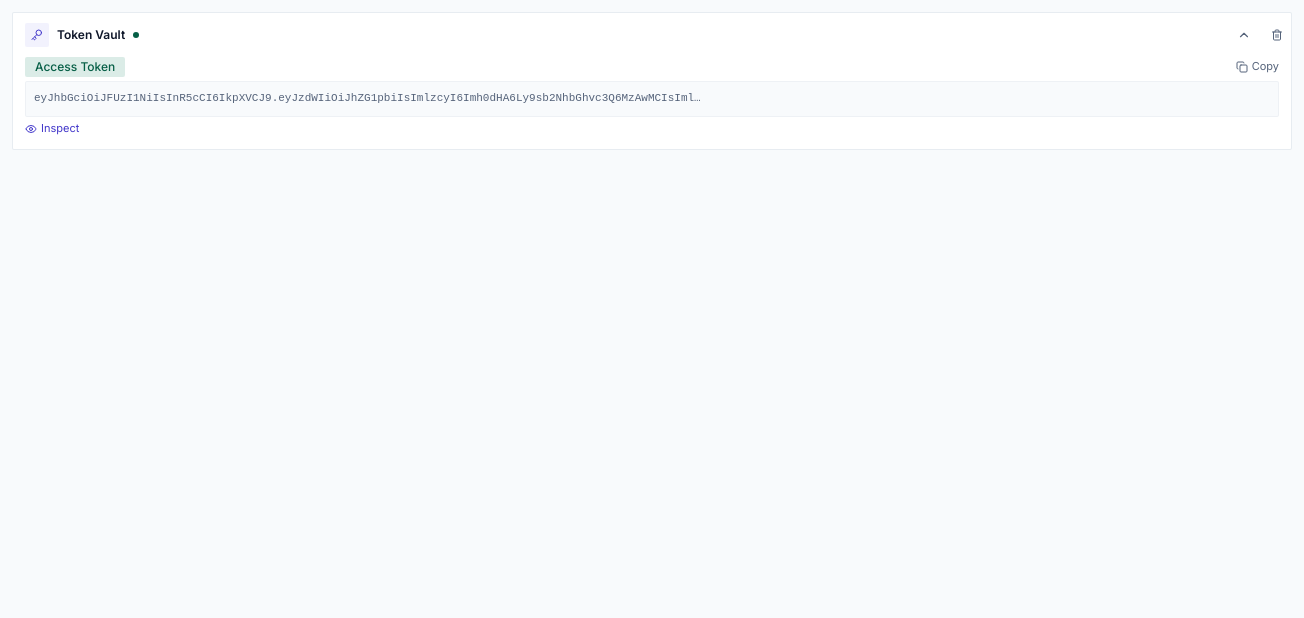
Test: TokenVault — which tokens it shows, and which it lets you inspect › toggles the inspector open and closed on the same button
Step 1. Click the button "Inspect" → coordinates (52, 129), box 25,121 -> 79,137
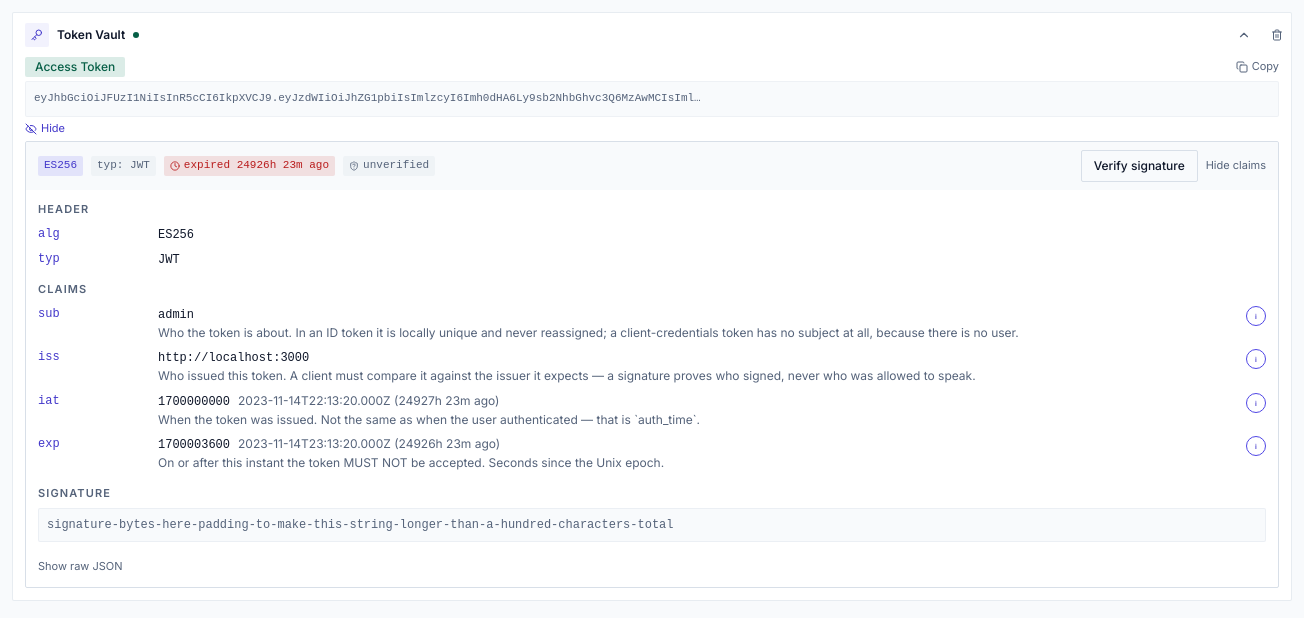
Expected: the button "Hide" is shown
Step 2. Click the button "Hide" → coordinates (45, 129), box 25,121 -> 65,137
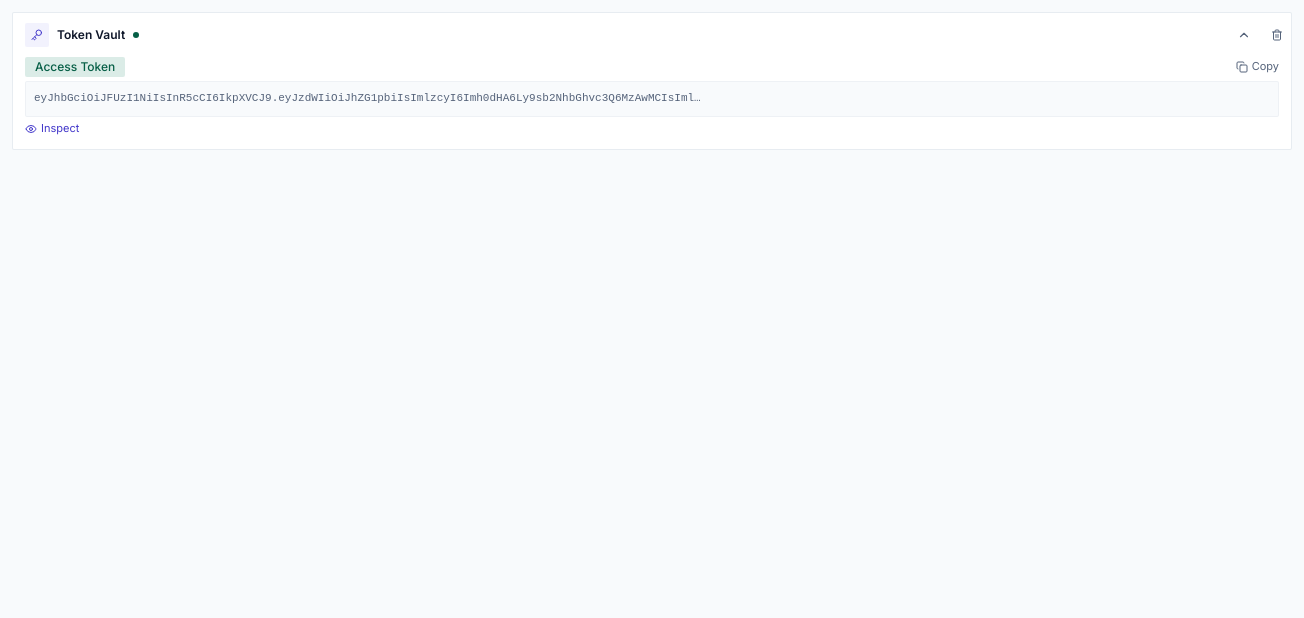
Expected: the button "Inspect" is shown, 25,121 -> 79,137
Expected: the button "Hide" is gone
